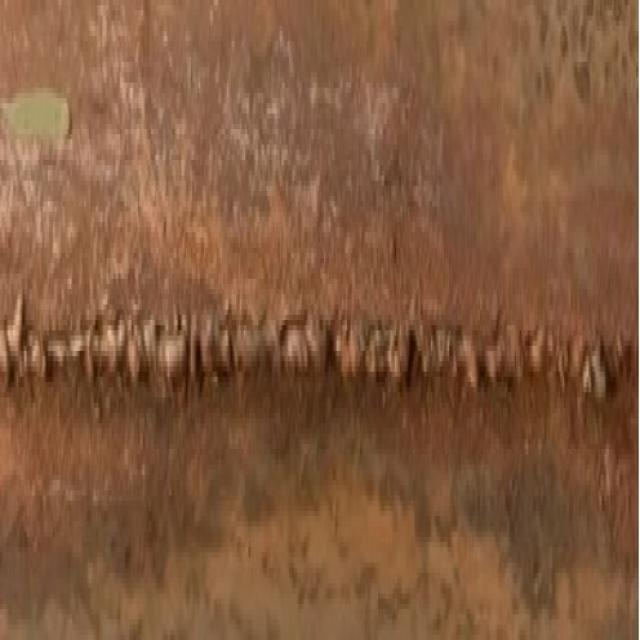Bad Weld: (4, 284, 631, 408)
